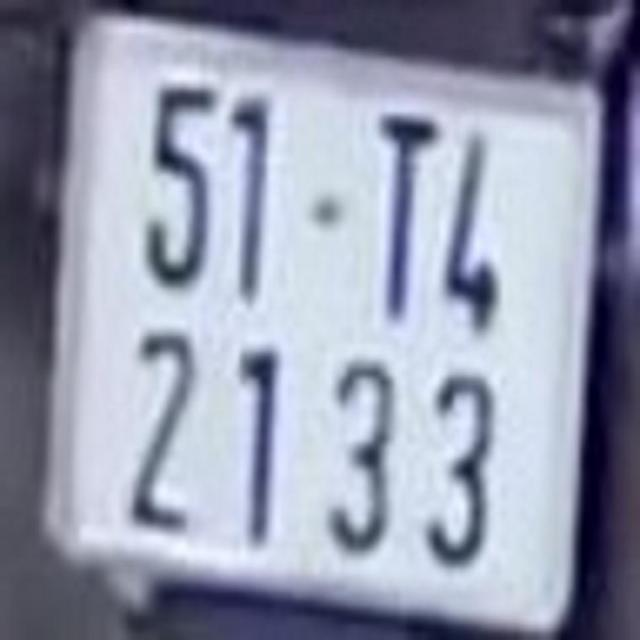1: (222, 338, 276, 541), (225, 88, 273, 303)
2: (128, 327, 199, 531)
3: (330, 356, 395, 556), (427, 368, 490, 566)
4: (442, 127, 505, 340)
5: (147, 83, 224, 295)
T: (376, 117, 433, 326)
